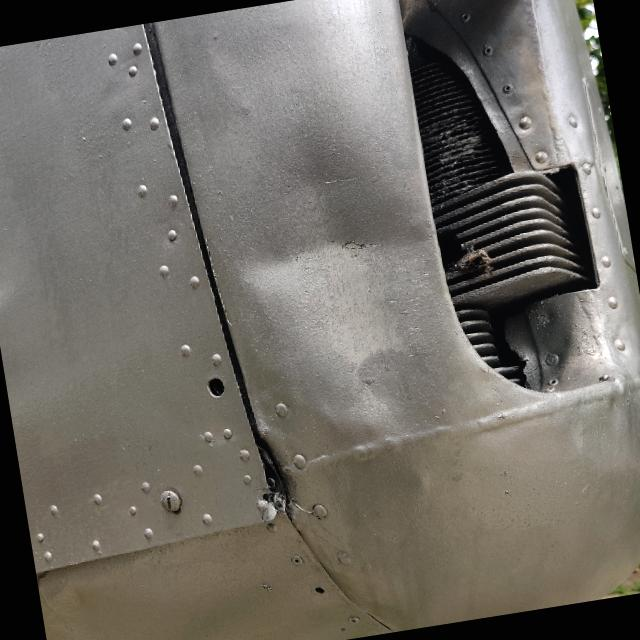dent: (212, 120, 463, 468)
